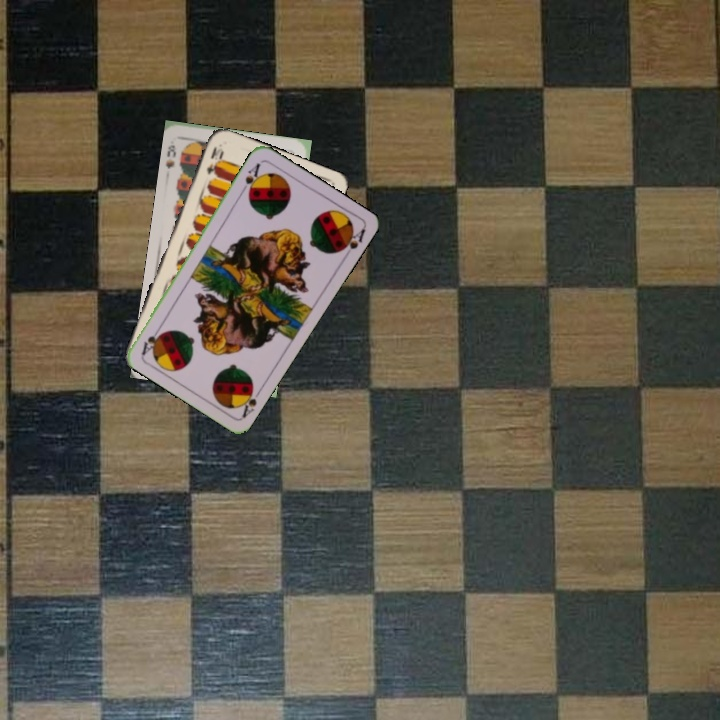E10: (202, 142, 226, 177)
S8: (162, 141, 179, 172)
SA: (235, 380, 265, 420), (237, 159, 263, 198)
